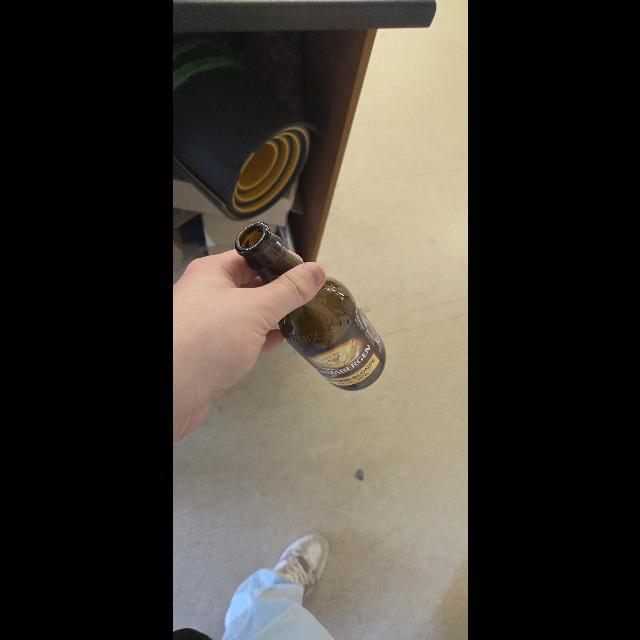Glass: (239, 219, 387, 391)
